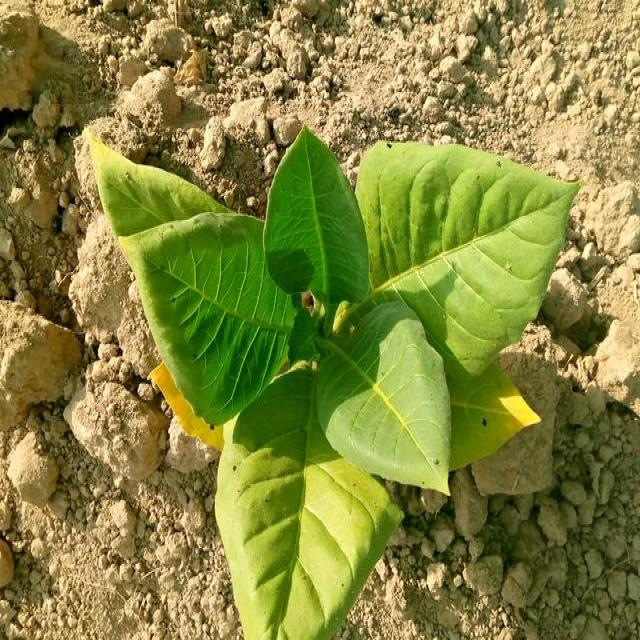crop: (87, 129, 578, 639)
